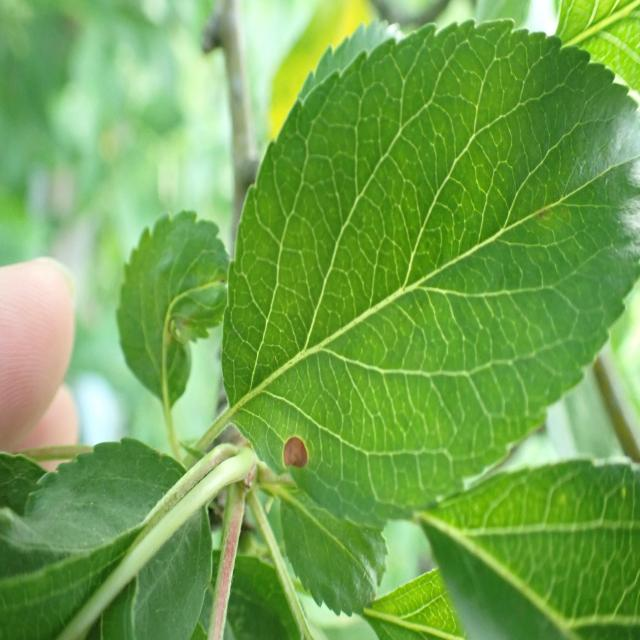frog-eye-leaf-spot: (221, 16, 640, 530)
